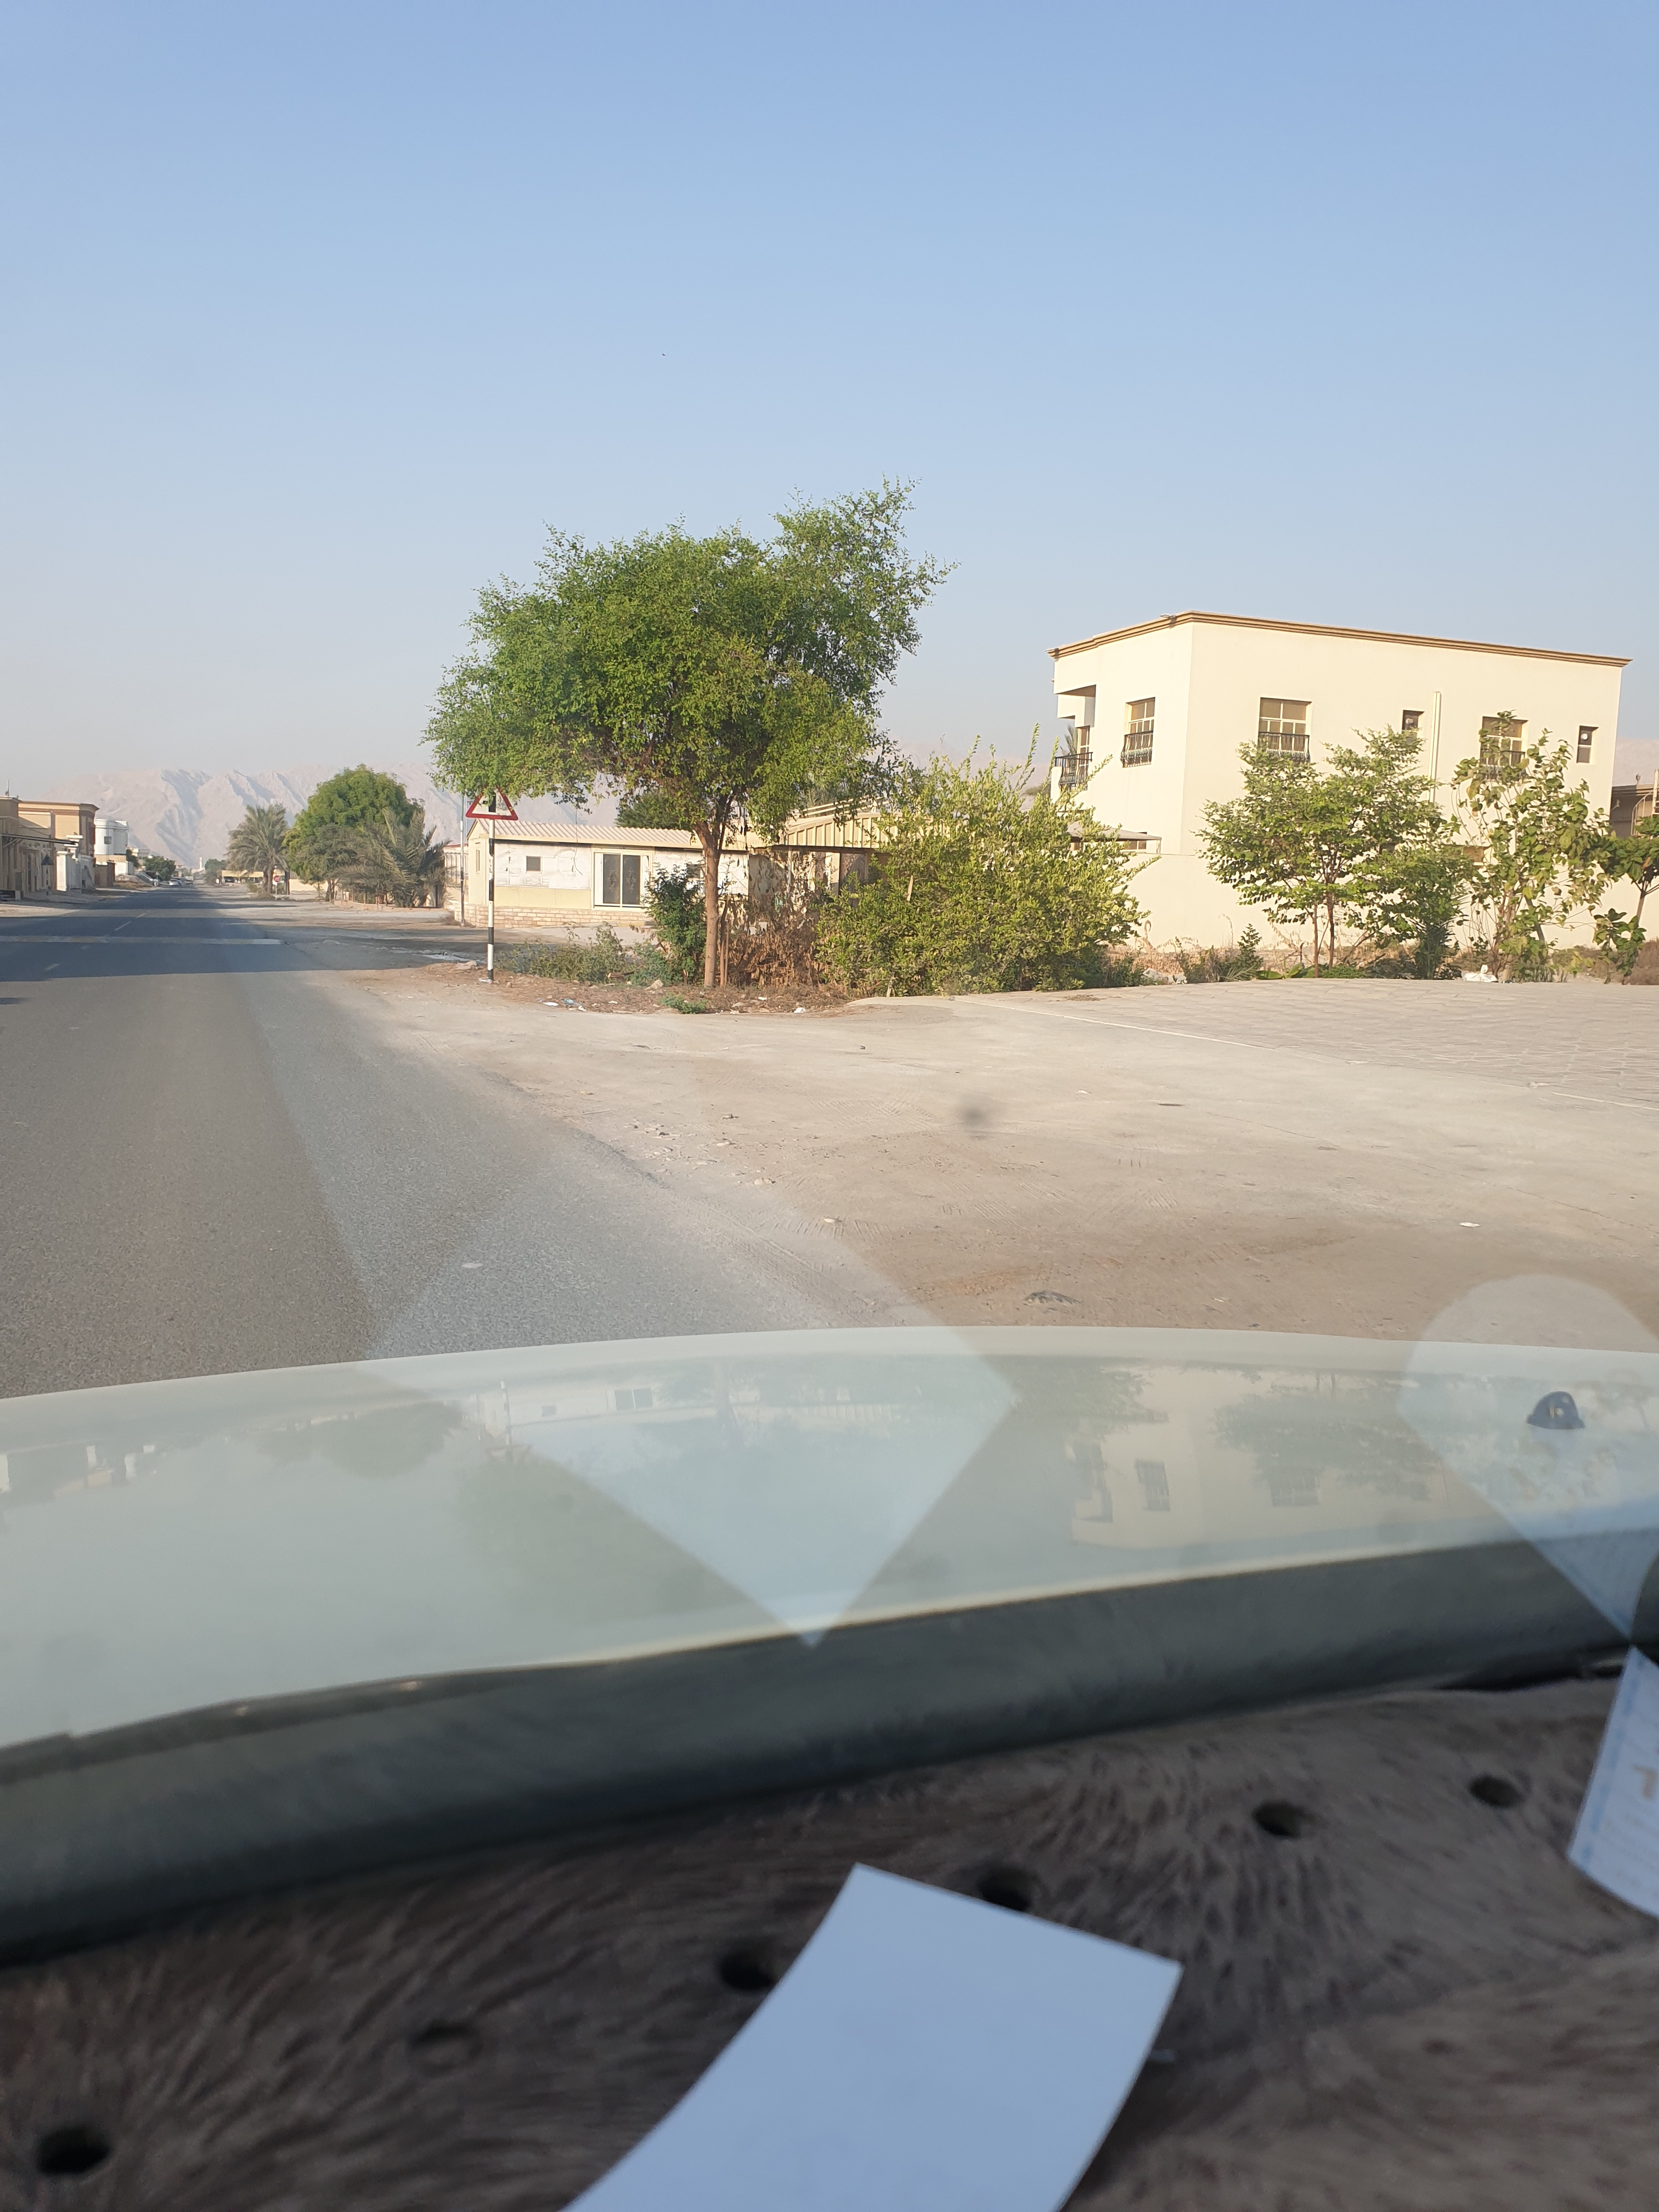fallen_trees: (758, 989, 840, 1019)
